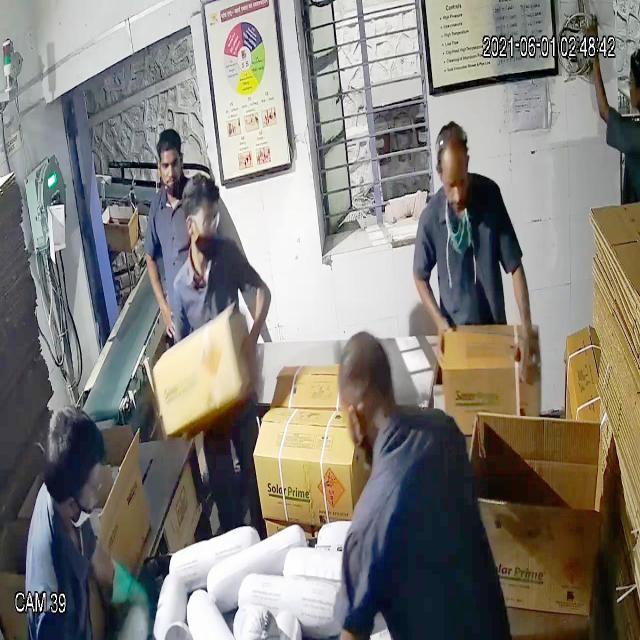glasses: (178, 208, 226, 238)
no-glass: (437, 167, 475, 199), (155, 152, 189, 177)
